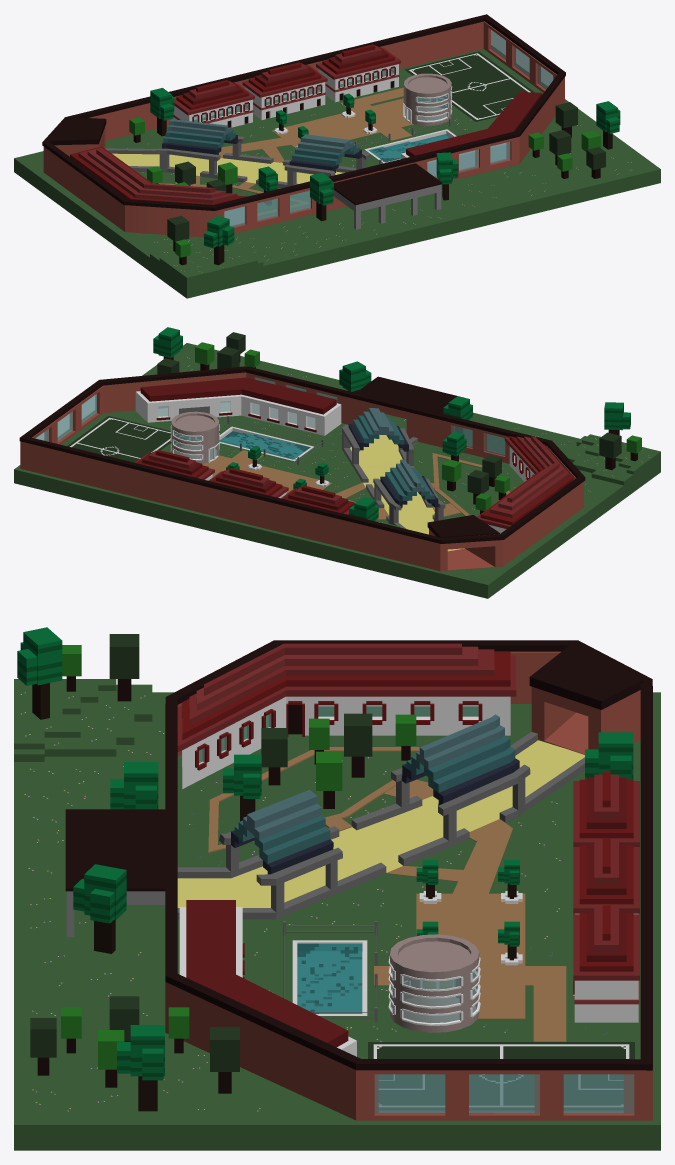
Rendered from BTR_Escenario.fbx.
3 renders of one model, top to bottom at view 1: azimuth 30°, elevation 25°; view 2: azimuth 150°, elevation 25°; view 3: azimuth 270°, elevation 25°, orthographic. The views are drawn at different scales.
Visible parts, largest first — view 1: Building, Floor, Trees, Cancha, Water; view 2: Building, Floor, Trees, Cancha, Water, Cerca; view 3: Building, Floor, Trees, Cancha, Water, Cerca.
Part boxes in pixels (<box>): Building: <box>42,14,565,237</box>; Floor: <box>14,45,660,298</box>; Trees: <box>129,88,620,265</box>; Cancha: <box>404,51,534,121</box>; Water: <box>369,134,450,162</box>; Building: <box>19,366,585,571</box>; Floor: <box>14,343,660,598</box>; Trees: <box>153,327,641,527</box>; Cancha: <box>67,416,176,462</box>; Water: <box>219,431,310,459</box>; Cerca: <box>219,416,323,464</box>; Building: <box>65,640,652,1120</box>; Floor: <box>14,679,660,1150</box>; Trees: <box>17,627,633,1111</box>; Cancha: <box>368,1042,634,1109</box>; Water: <box>297,943,362,1013</box>; Cerca: <box>283,921,377,1021</box>.
Bounding box in the file's own units: 169 × 21.48 × 107.
